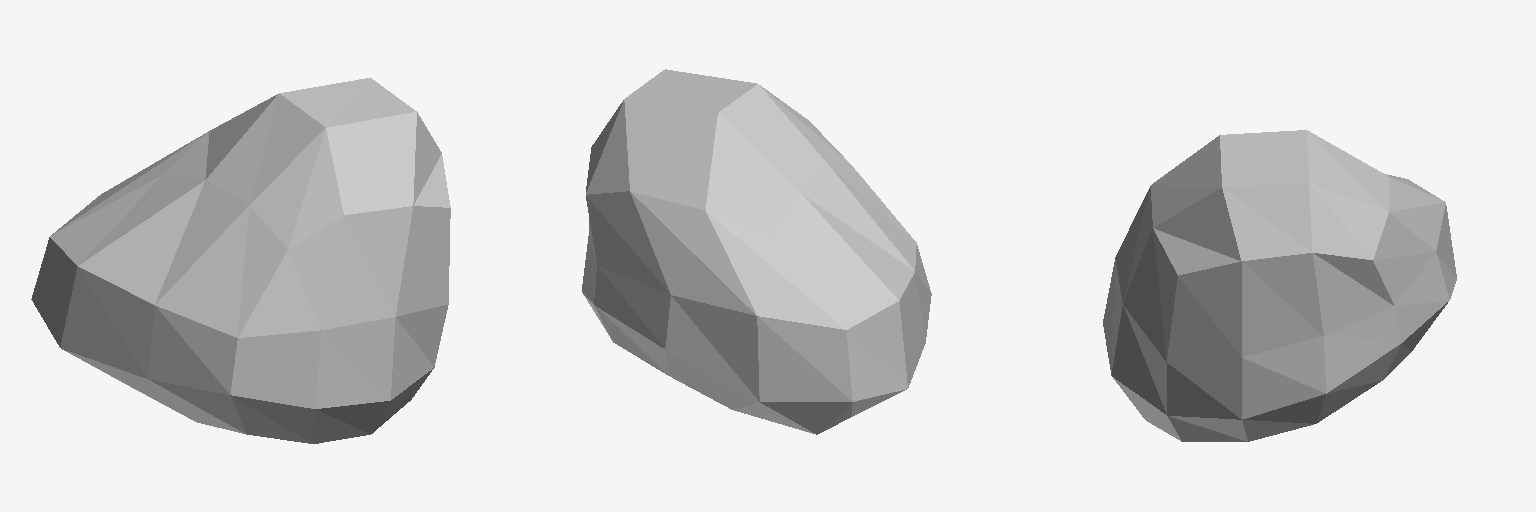
File: rock1.obj
3 views of the same model, side by side, from view 1: azimuth 30°, elevation 25°; view 2: azimuth 150°, elevation 25°; view 3: azimuth 270°, elevation 25° (orthographic).
Parts seen in each view (by area): view 1: Cube; view 2: Cube; view 3: Cube.
Part boxes in pixels (left/top/right/bottom): Cube: left=31, top=78, right=450, bottom=443; Cube: left=582, top=69, right=931, bottom=434; Cube: left=1103, top=130, right=1456, bottom=441.
Bounding box in the file's own units: 3.85 × 3.15 × 3.52.